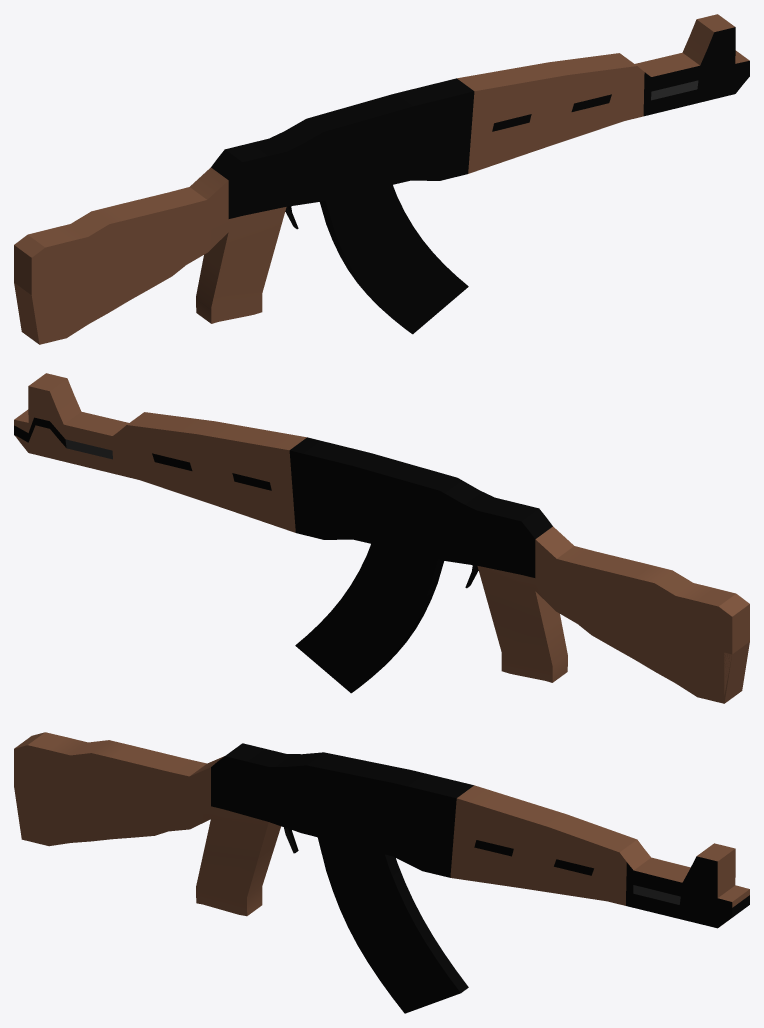
3 renders of one model, top to bottom at view 1: azimuth 30°, elevation 25°; view 2: azimuth 150°, elevation 25°; view 3: azimuth 330°, elevation 25°, orthographic.
Visible parts, largest first — view 1: Cube; view 2: Cube; view 3: Cube.
Part boxes in pixels (bbox=[...]): Cube: bbox=[14, 14, 749, 344]; Cube: bbox=[14, 373, 749, 703]; Cube: bbox=[14, 732, 749, 1013].
Size of the model in its own units: 457 by 142 by 19.55.
